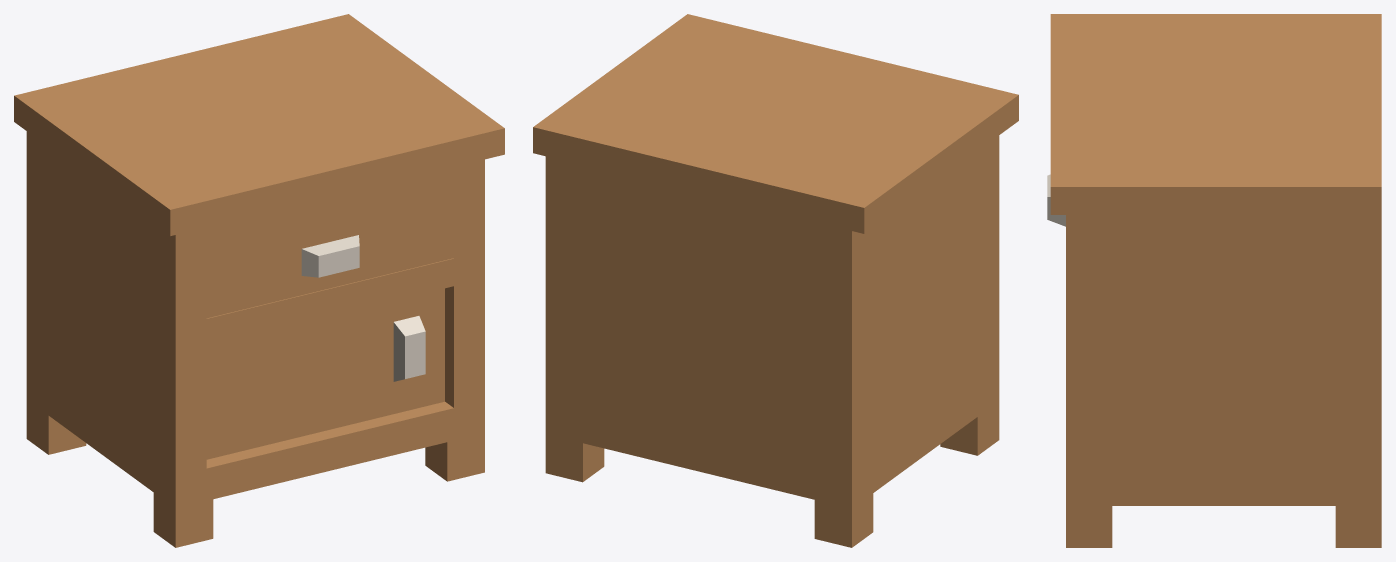
File: kitCabinetBedDrawer.glb
The picture shows the model from 3 angles, left to right: view 1: azimuth 30°, elevation 25°; view 2: azimuth 150°, elevation 25°; view 3: azimuth 270°, elevation 25°; orthographic projection. The views are drawn at different scales.
Parts seen in each view (by area): view 1: kitCabinetBedDrawer_wood, kitCabinetBedDrawer_metal; view 2: kitCabinetBedDrawer_wood; view 3: kitCabinetBedDrawer_wood.
Boxes of the visible parts, x1,y1,x2,y2 form: kitCabinetBedDrawer_wood: (14, 14, 504, 547); kitCabinetBedDrawer_metal: (301, 235, 425, 381); kitCabinetBedDrawer_wood: (533, 14, 1018, 547); kitCabinetBedDrawer_wood: (1050, 14, 1381, 547).
Size of the model in its own units: 0.532 by 0.5264 by 0.4346.
